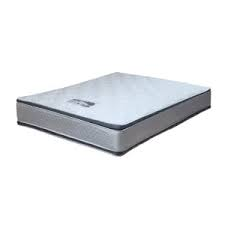bed-matress: (16, 71, 211, 155)
